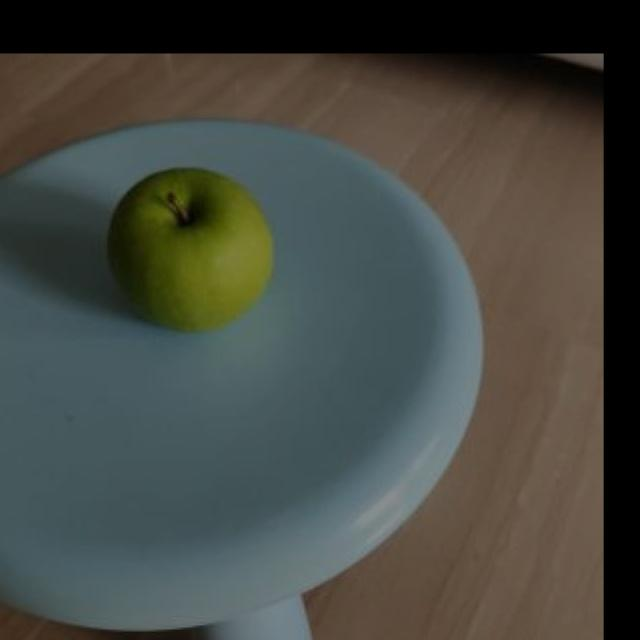green apple: (104, 166, 275, 331)
